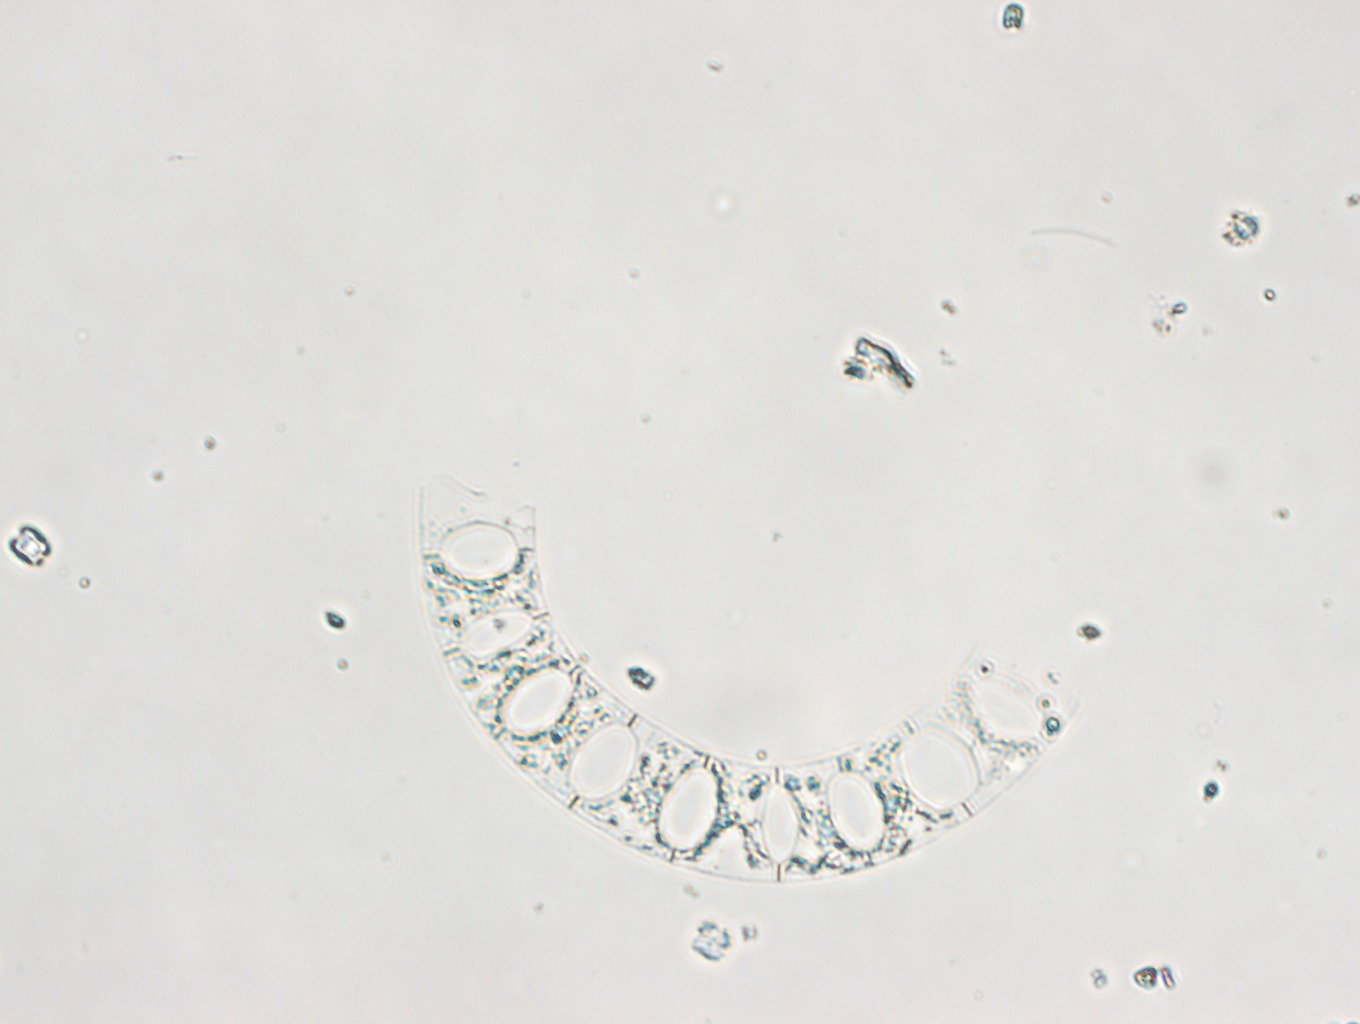eucampia: (416, 459, 1080, 884)
